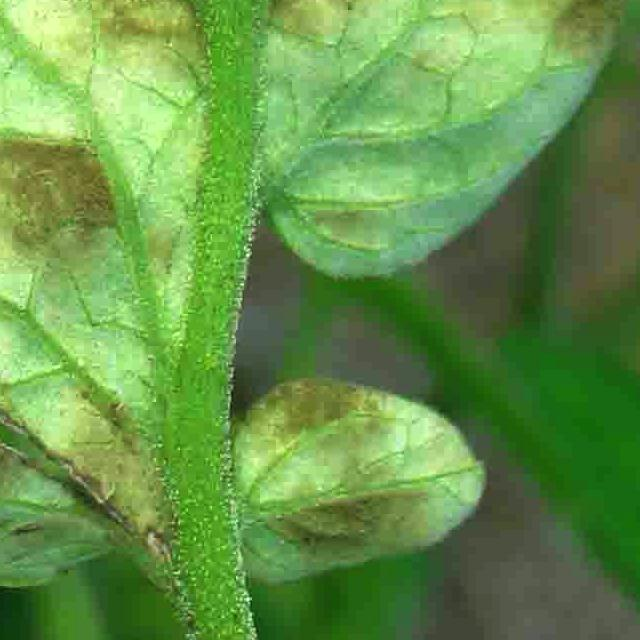Tomato mold leaf: (0, 0, 640, 631)
